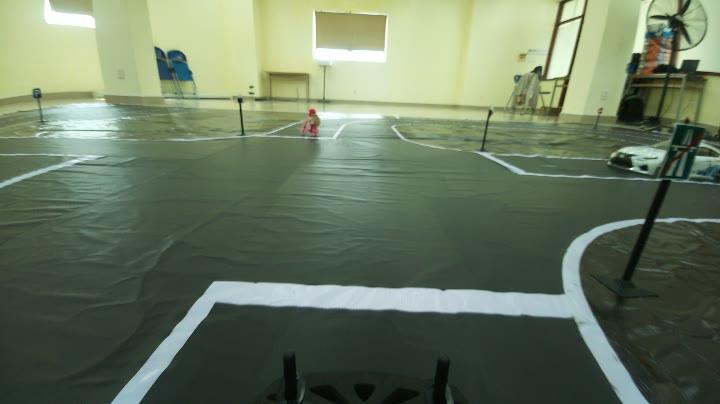highway_exit: (658, 118, 707, 186)
